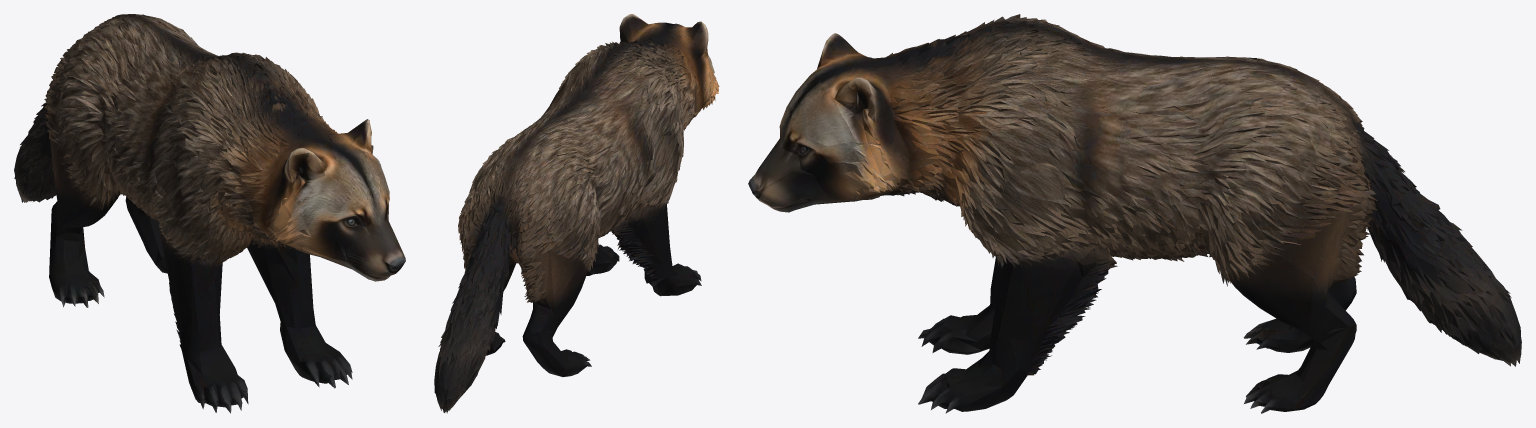
The model's file is wolverine.glb.
3 views of the same model, side by side, from view 1: azimuth 30°, elevation 25°; view 2: azimuth 150°, elevation 25°; view 3: azimuth 270°, elevation 25° (orthographic). The views are drawn at different scales.
Size of the model in its own units: 0.4831 by 0.945 by 1.9.
Materials: 1 (1 with a texture image).
